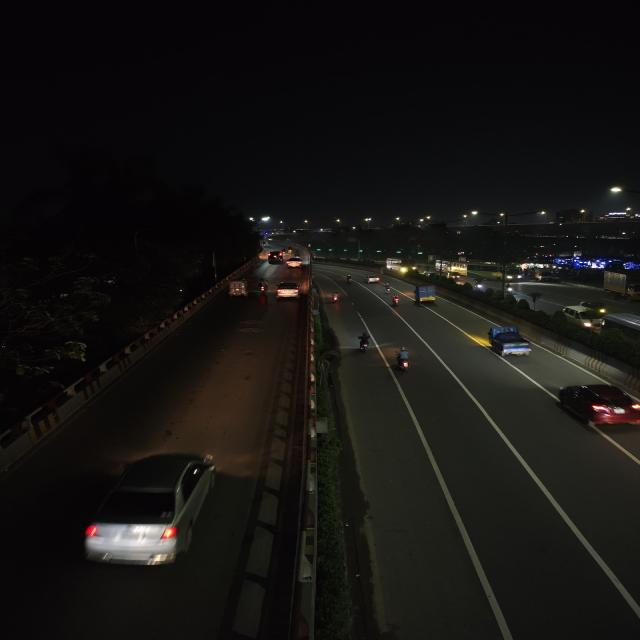bus: (476, 263, 523, 281), (436, 258, 468, 276)
car: (76, 446, 229, 575), (555, 379, 640, 431), (558, 302, 609, 330), (274, 280, 302, 300), (284, 258, 302, 270), (366, 274, 382, 284), (268, 251, 284, 261)
cng: (228, 278, 249, 299)
motorcycle: (391, 345, 421, 375), (354, 332, 374, 354), (256, 280, 269, 296), (389, 293, 402, 307), (472, 280, 487, 292), (329, 290, 341, 304), (379, 282, 392, 293), (343, 272, 354, 284)
pedestrian: (528, 291, 544, 309)
pickup_van: (484, 323, 536, 359)
truck: (602, 269, 640, 302), (411, 283, 439, 305), (534, 270, 556, 284)
